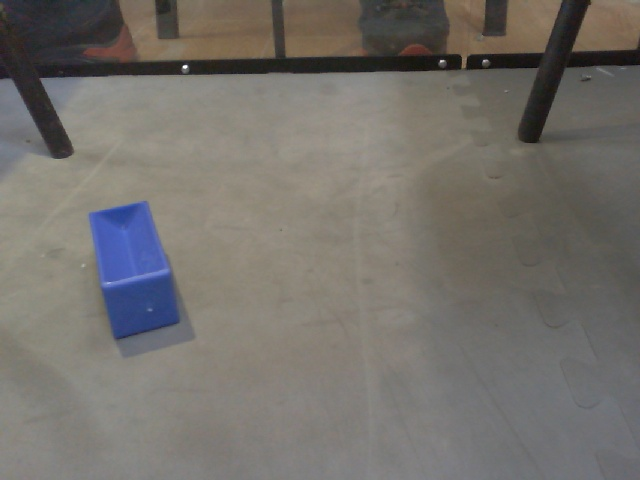BlueSample: (85, 197, 184, 346)
